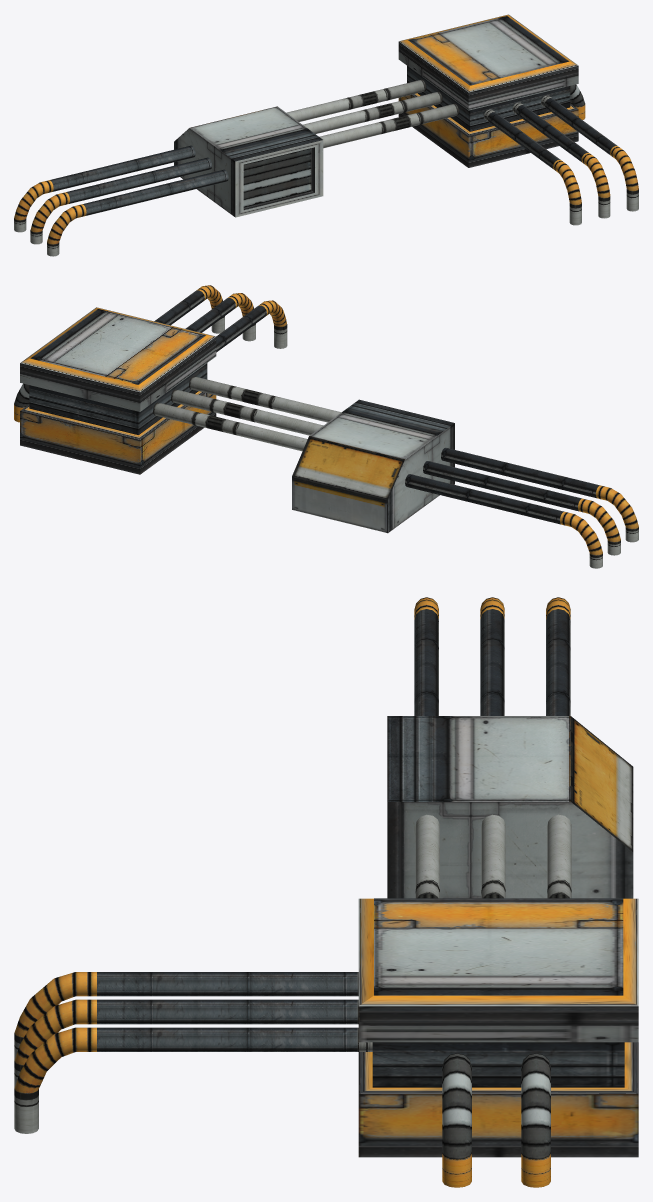
The model's file is caixas-deforca-1.fbx.
3 views of the same model, one above another, from view 1: azimuth 30°, elevation 25°; view 2: azimuth 150°, elevation 25°; view 3: azimuth 270°, elevation 25° (orthographic). The views are drawn at different scales.
Parts seen in each view (by area): view 1: Cylinder; view 2: Cylinder; view 3: Cylinder.
Part boxes in pixels (x1=…): Cylinder: x1=14, y1=14, x2=638, y2=256; Cylinder: x1=14, y1=285, x2=638, y2=568; Cylinder: x1=14, y1=597, x2=638, y2=1187.
Bounding box in the file's own units: 9.78 × 1.36 × 4.86.
